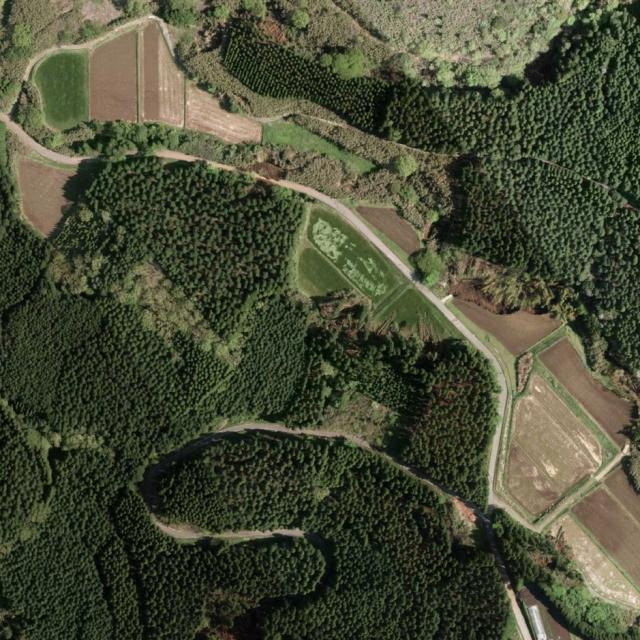landslide: (263, 0, 585, 88)
